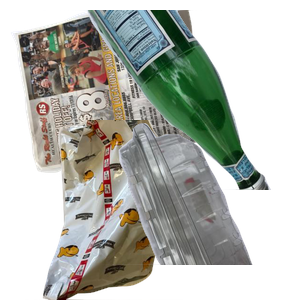glass: (75, 10, 300, 190)
paper: (10, 10, 210, 175)
plastic: (71, 120, 300, 300)
trash: (25, 120, 198, 300)
